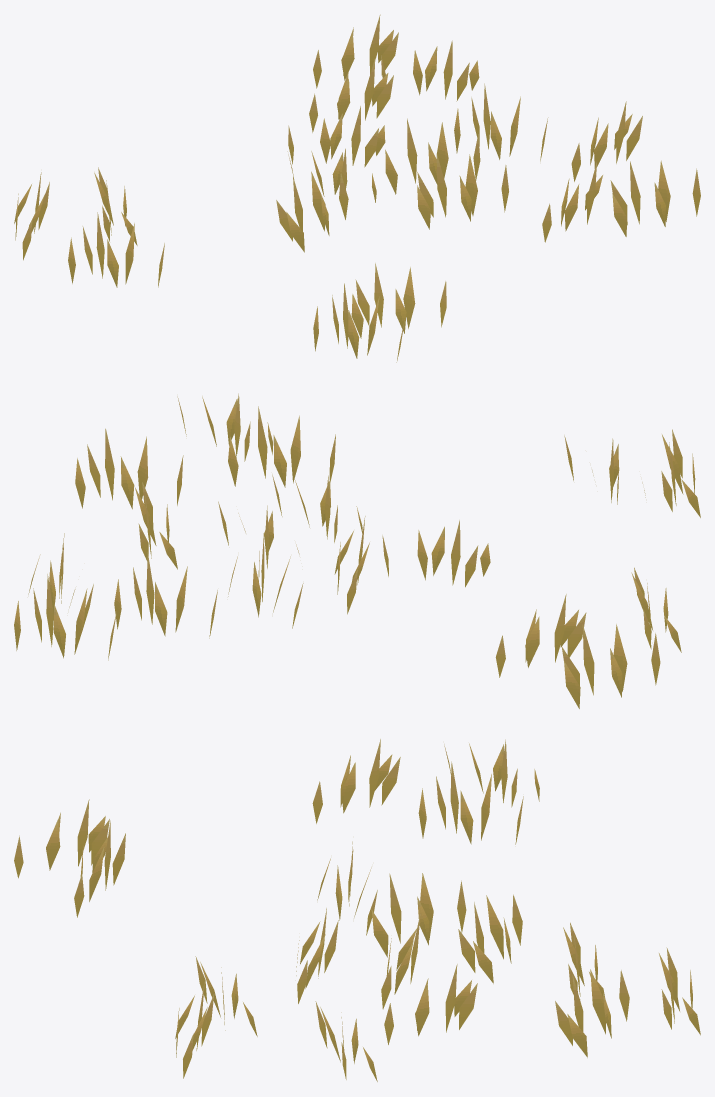
The model's file is plants_un_main_grass_set61_01.gltf.
3 renders of one model, top to bottom at view 1: azimuth 30°, elevation 25°; view 2: azimuth 150°, elevation 25°; view 3: azimuth 270°, elevation 25°, orthographic. The views are drawn at different scales.
Visible parts, largest first — view 1: plants_un_main_grass_set61_01_mesh_shape:plants_un_main_gras; view 2: plants_un_main_grass_set61_01_mesh_shape:plants_un_main_gras; view 3: plants_un_main_grass_set61_01_mesh_shape:plants_un_main_gras.
Part boxes in pixels (box(x1,y1,x2,y2)): plants_un_main_grass_set61_01_mesh_shape:plants_un_main_gras: box(14, 14, 700, 362); plants_un_main_grass_set61_01_mesh_shape:plants_un_main_gras: box(14, 393, 700, 708); plants_un_main_grass_set61_01_mesh_shape:plants_un_main_gras: box(14, 739, 700, 1081).
Size of what is drawn, in the model's own units: 3.78 by 0.4184 by 3.6.
Materials: 1 (1 with a texture image).
